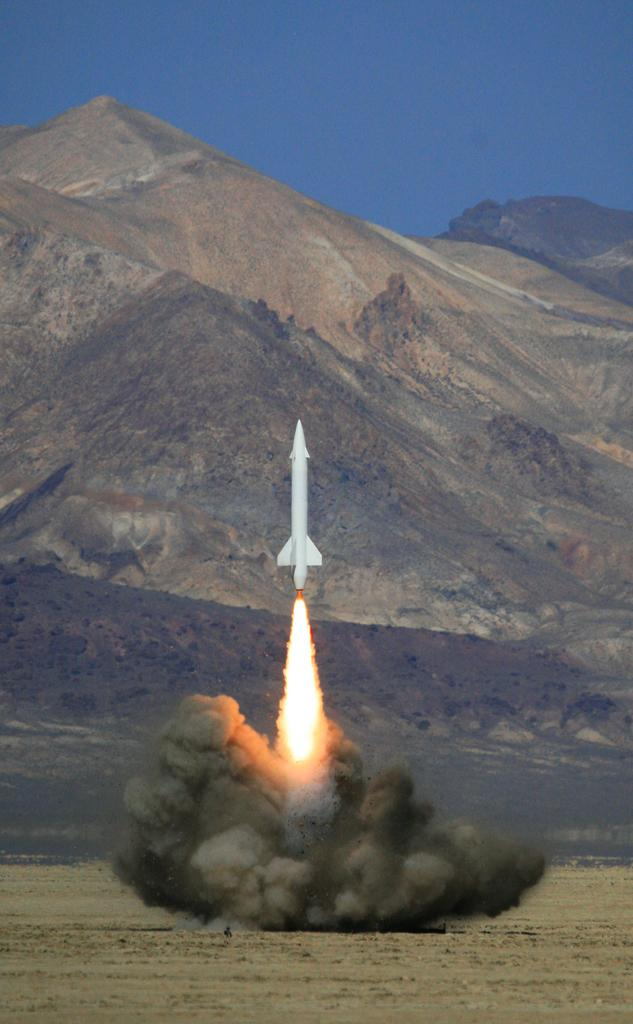Missile: (271, 417, 323, 603)
